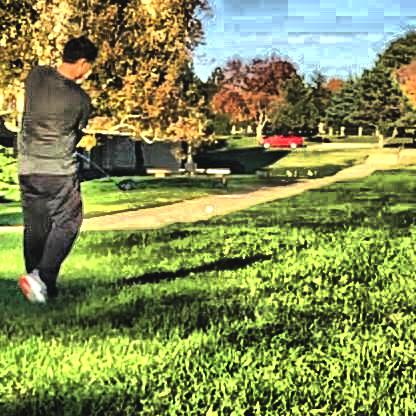golfball: (201, 201, 213, 213)
